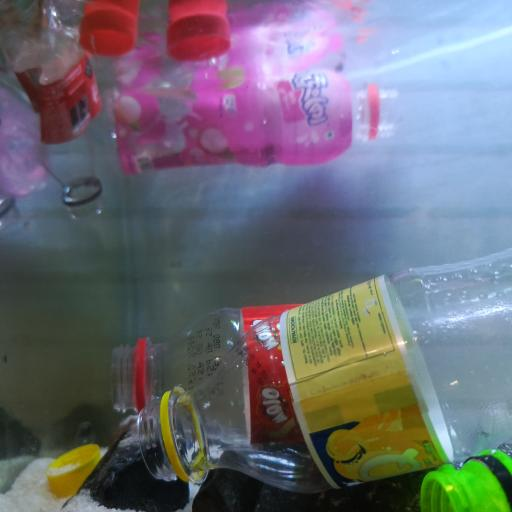bottle_cap: (40, 444, 107, 497), (163, 11, 231, 63), (80, 4, 139, 61)
plastic_bottle: (137, 239, 512, 497), (106, 300, 500, 451), (108, 56, 400, 174), (16, 23, 116, 227), (412, 445, 512, 512)
